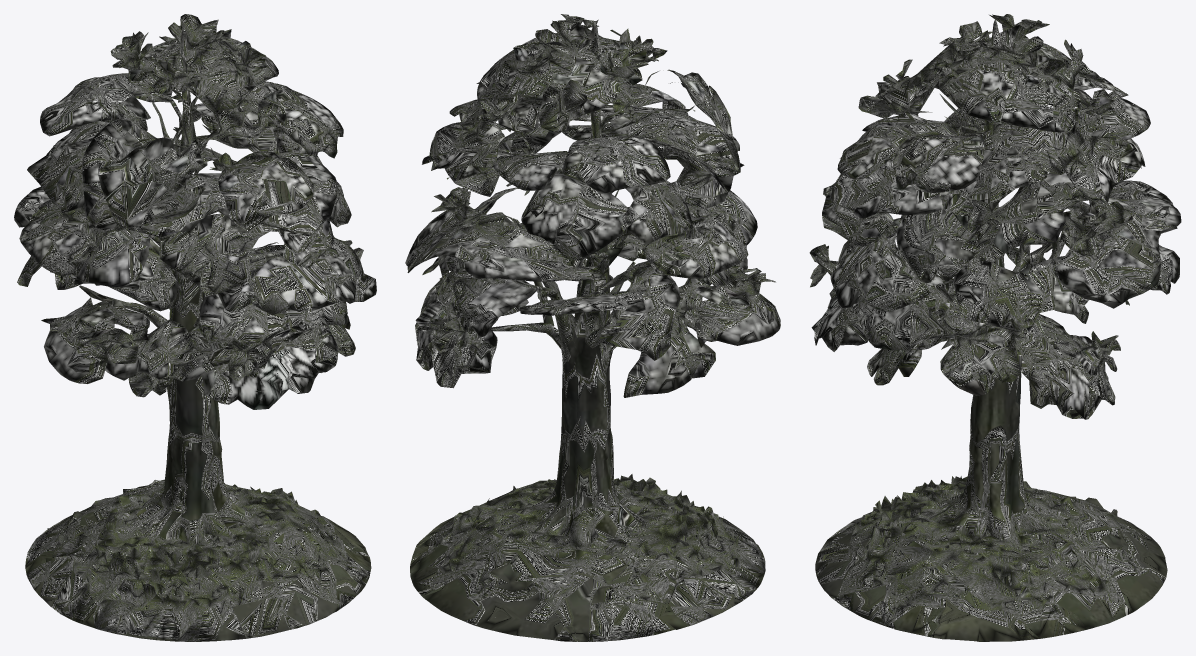
The picture shows the model from 3 angles, left to right: view 1: azimuth 30°, elevation 25°; view 2: azimuth 150°, elevation 25°; view 3: azimuth 270°, elevation 25°; orthographic projection.
Bounding box in the file's own units: 1.17 × 1.9 × 1.18.
1 material, 1 textured.
